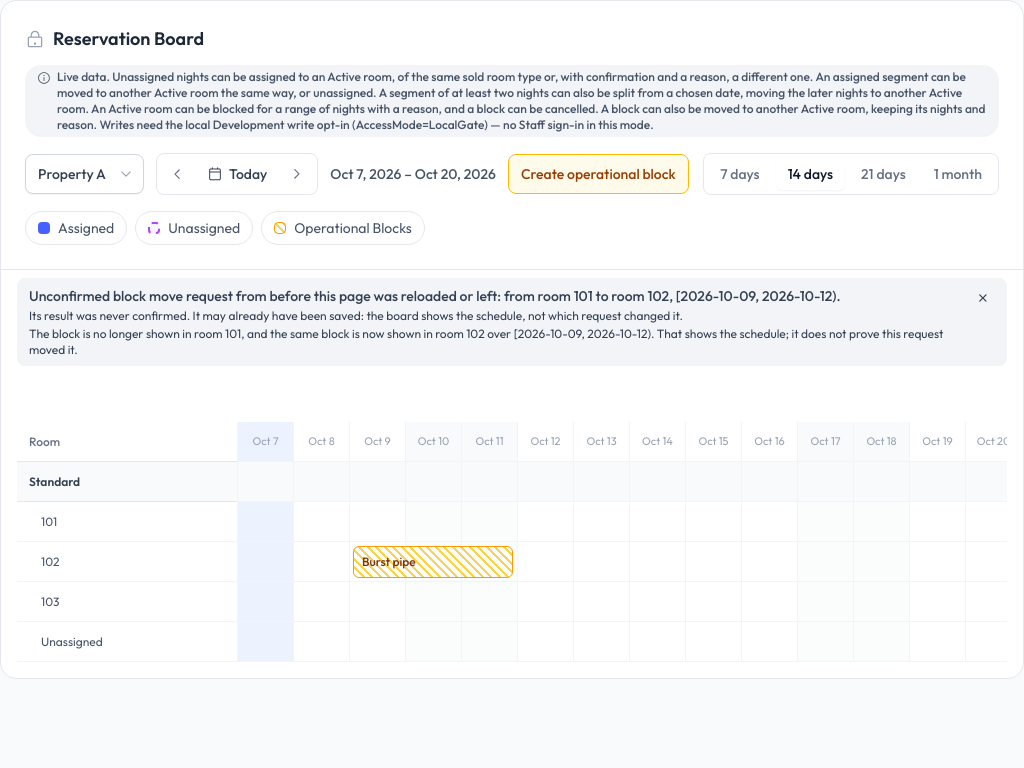
it: a restored block move resolves only on evidence › observed: the source is gone and the same block now holds those nights in the destination — said as a fact of the schedule, dismissible
The width and height of the screenshot is (1024, 768).
Expected: the message with test id "uncertain-block-notice" shows "The block is no longer shown in room 101, and the same block is now shown in room 102", [29, 326, 944, 357]
Expected: the message with test id "uncertain-block-notice" shows "it does not prove this request moved it", [29, 326, 944, 357]
Click the button named "Dismiss notice": (983, 298) [971, 286, 995, 310]
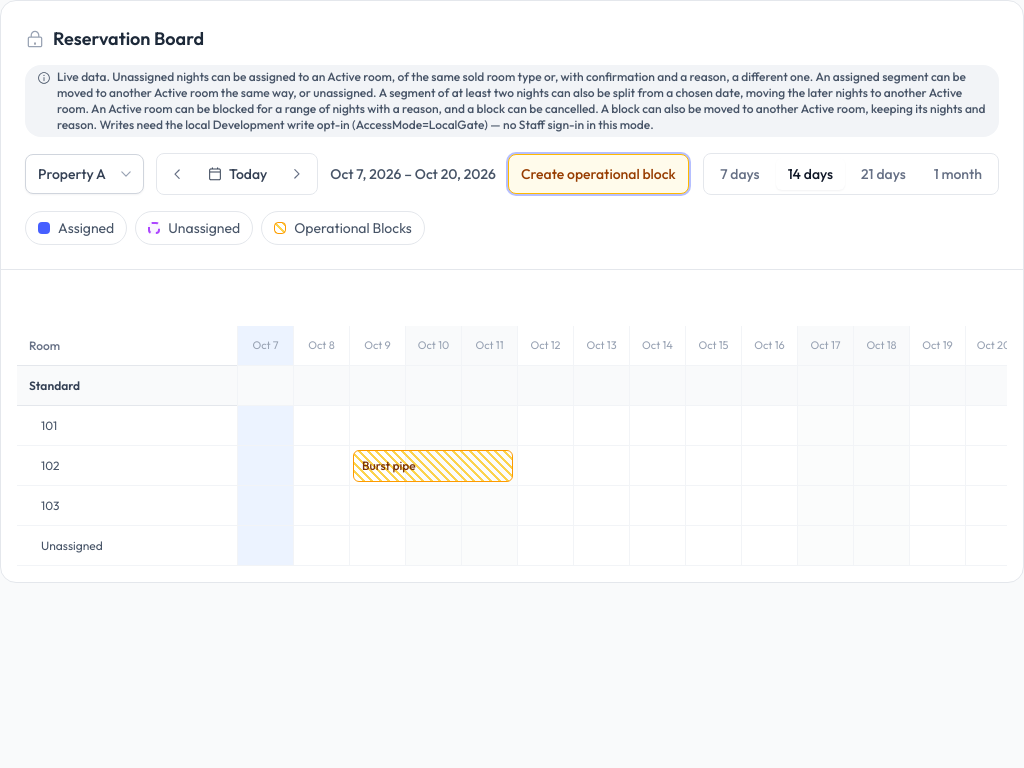
Result: the message with test id "uncertain-block-notice" is gone
